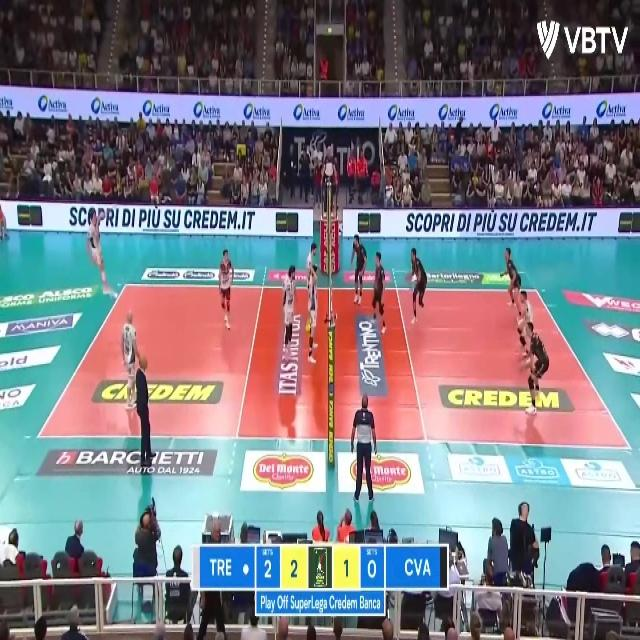volleyball court: (33, 279, 634, 448)
